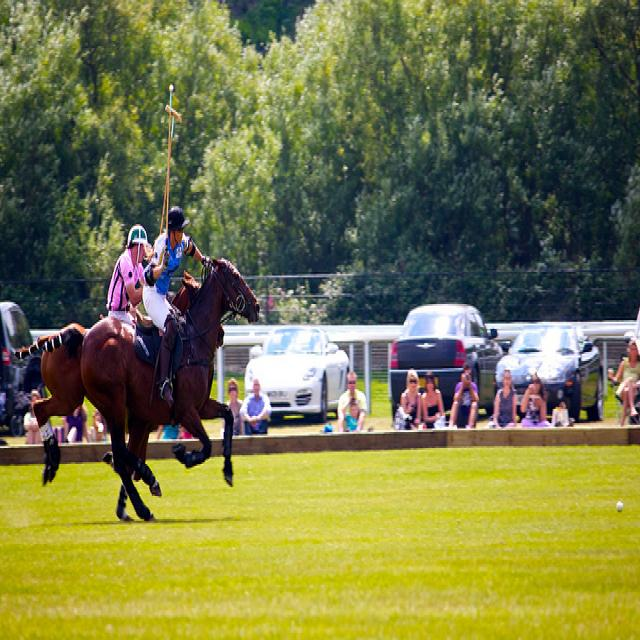Vehicle: (387, 302, 508, 420), (496, 322, 605, 420), (246, 318, 352, 413), (0, 302, 33, 352)
